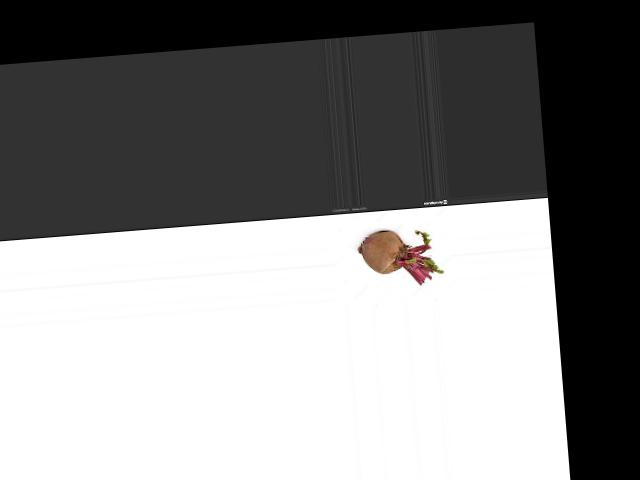beet: (356, 225, 444, 289)
